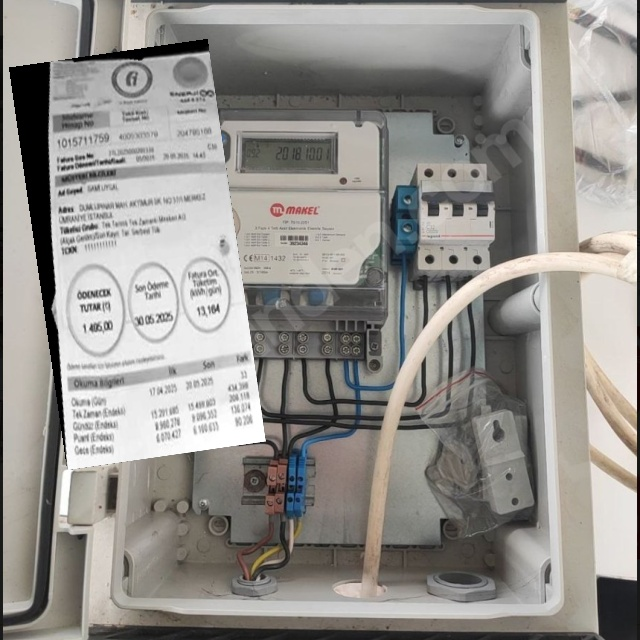electricity-bill: (8, 38, 265, 470)
